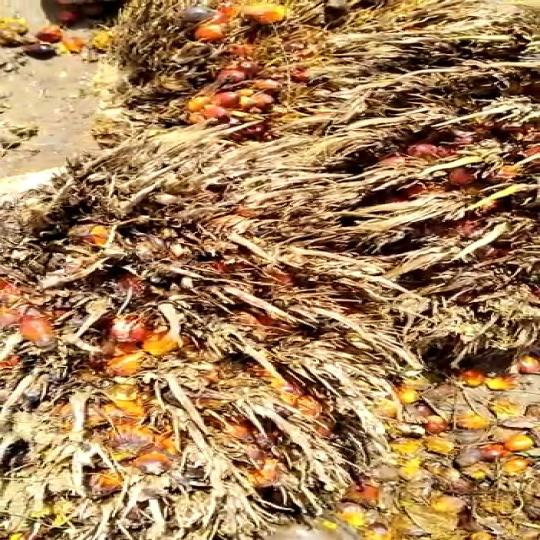terlalu masak: (0, 158, 406, 503), (83, 0, 383, 135)
